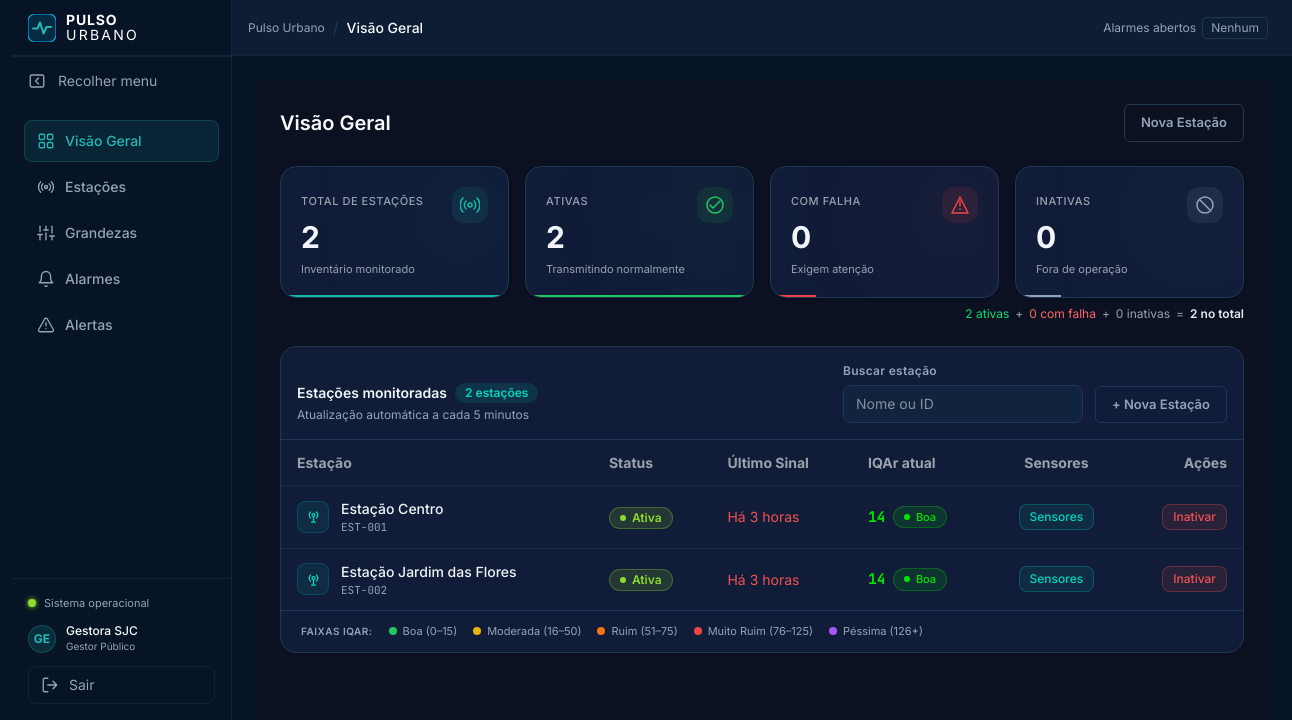
Test: DashboardEstacao integração (US-35) › deve navegar do link da estação na Visão Geral para /platform/dashboard e carregar os dados da estação
Step 1. Click the link "Estação Centro EST-001" → [370, 517], box [297,498,443,536]
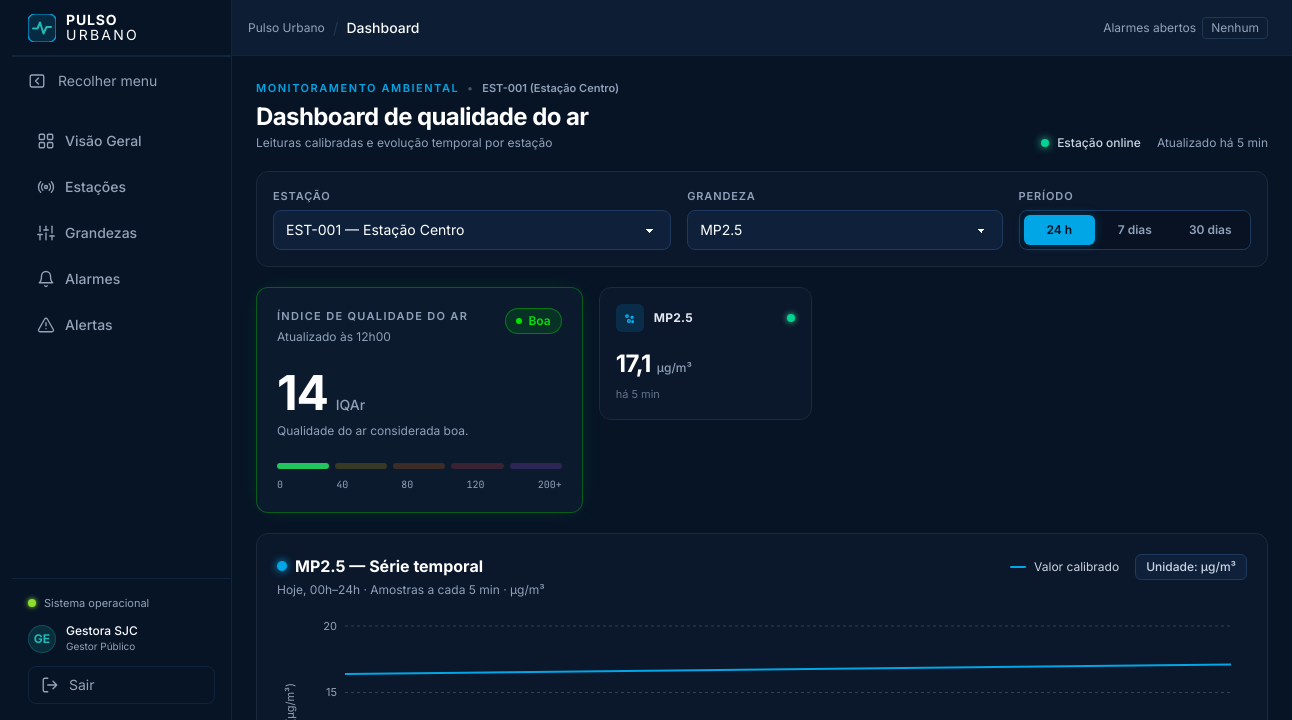
Now the heading named "Dashboard da Estação · EST-001 (Estação Centro)" is shown, box [256,100,619,132]
